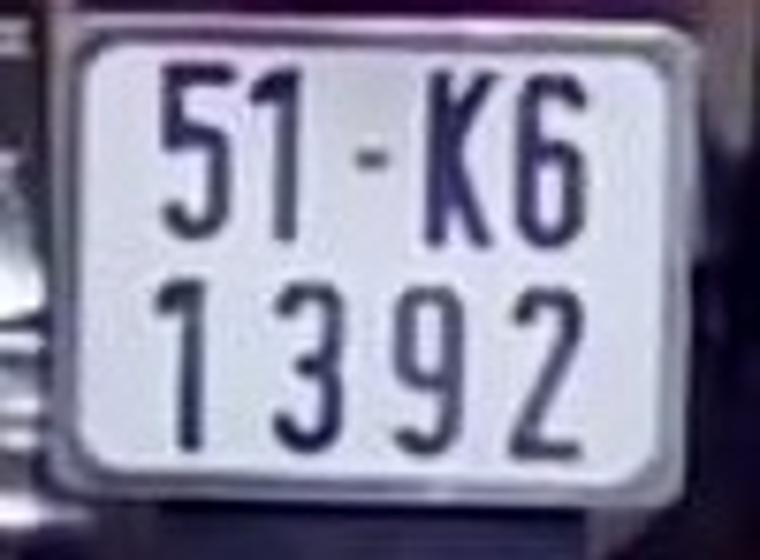-: (352, 146, 399, 181)
1: (248, 55, 314, 255), (152, 271, 217, 462)
2: (508, 277, 593, 465)
3: (270, 267, 352, 466)
5: (157, 55, 246, 252)
6: (514, 64, 596, 255)
9: (386, 278, 471, 464)
K: (420, 64, 503, 262)
